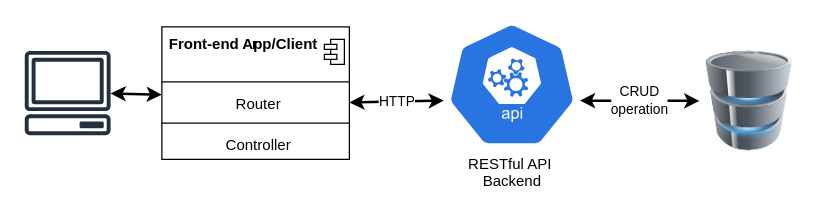
Some shapes in this 821 by 214 pixel diagram are drawn without their labels. Here are the shapes that lost their labels. From the top down, the centre of each, then its label:
At point 67,92: "User Machine".
At point 749,100: "Database".
